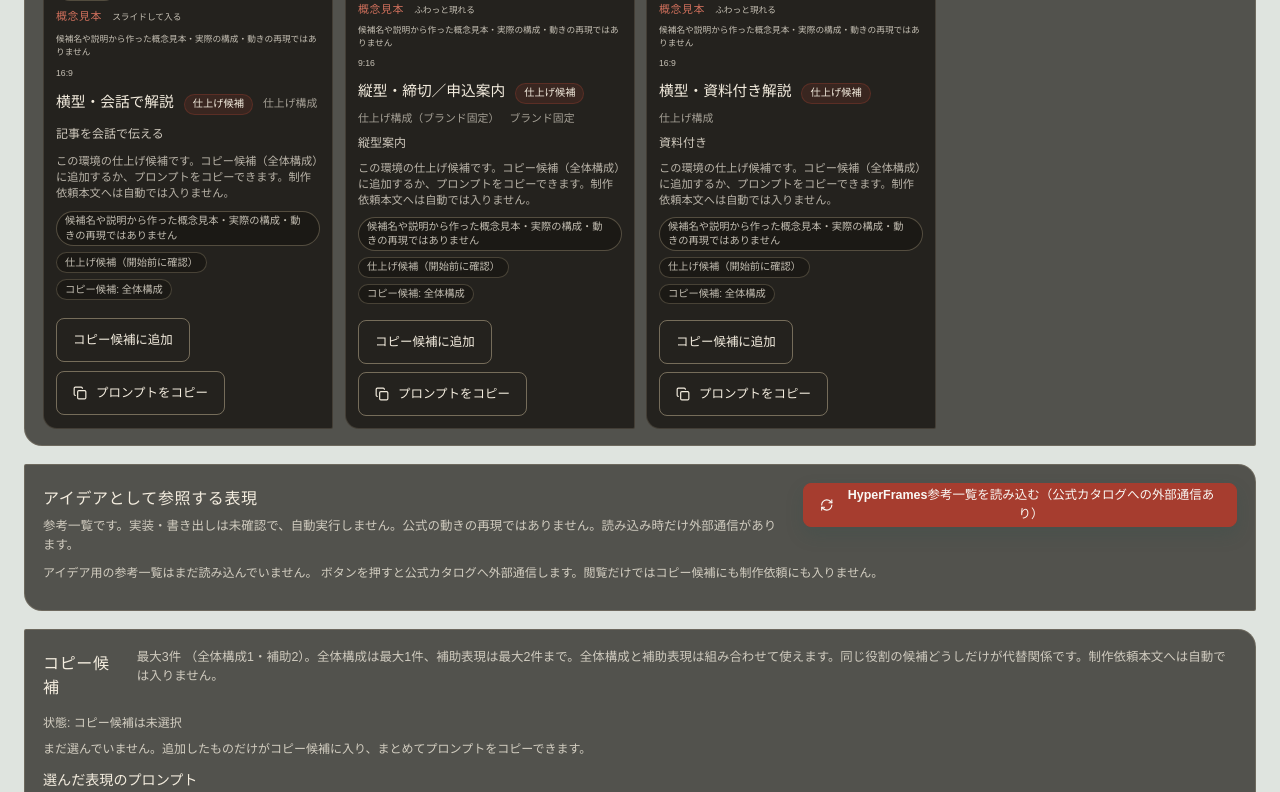
ExpressionShelf selection / freeform export › copies a single card prompt on explicit click without auto-copy or selecting
(page scrolled)
Click the button with aria-label "一覧の横型・会話で解説のプロンプトをコピー". click: click(140, 393)
box: 56,371 -> 225,415
(page scrolled)
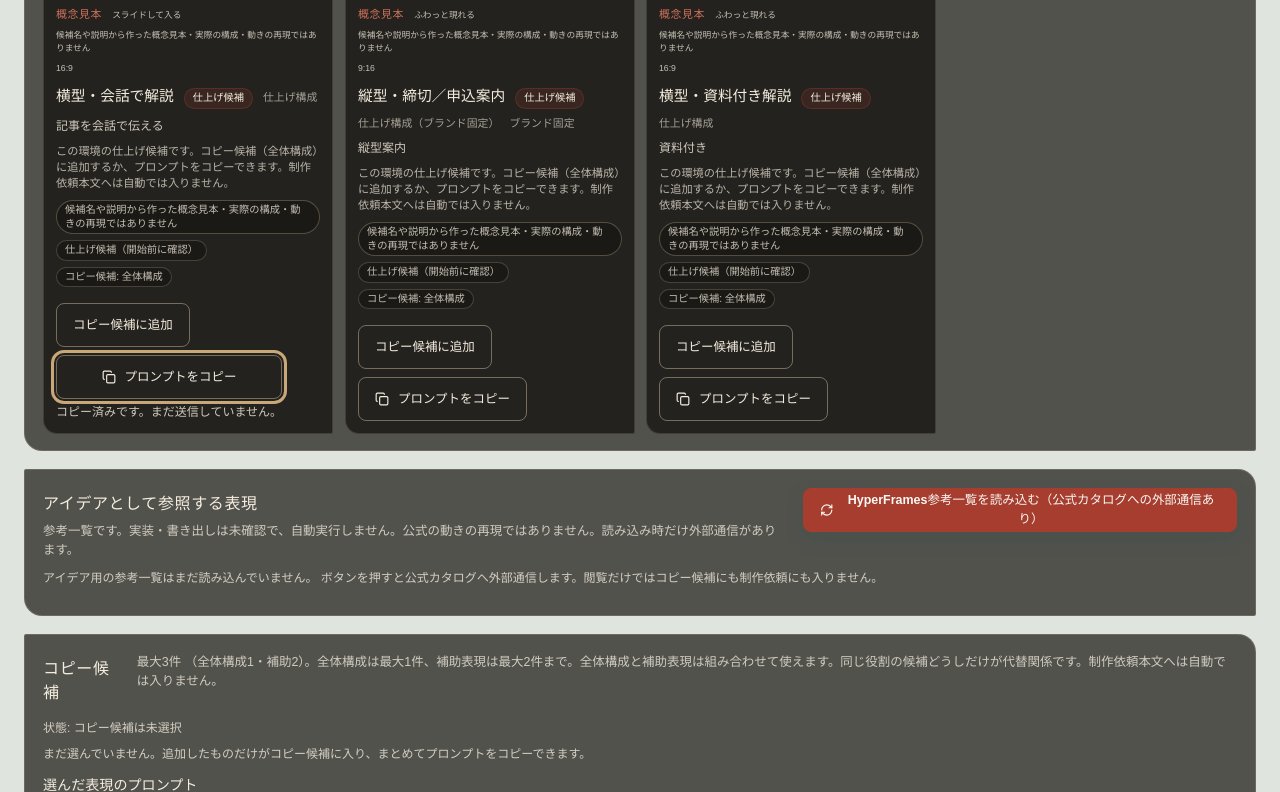
Check: the text "コピー済みです。まだ送信していません。" is shown, box 56,403 -> 282,421
